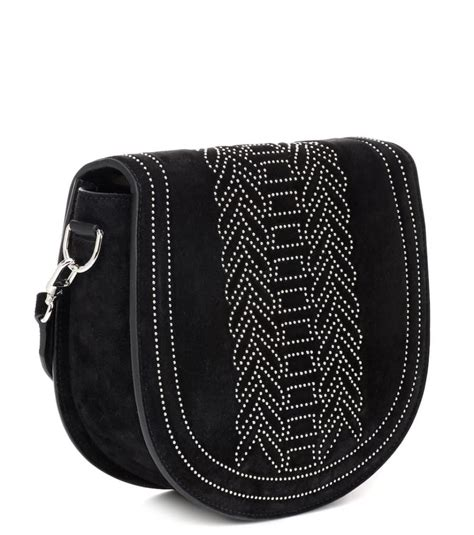gamuza: (49, 136, 429, 520)
